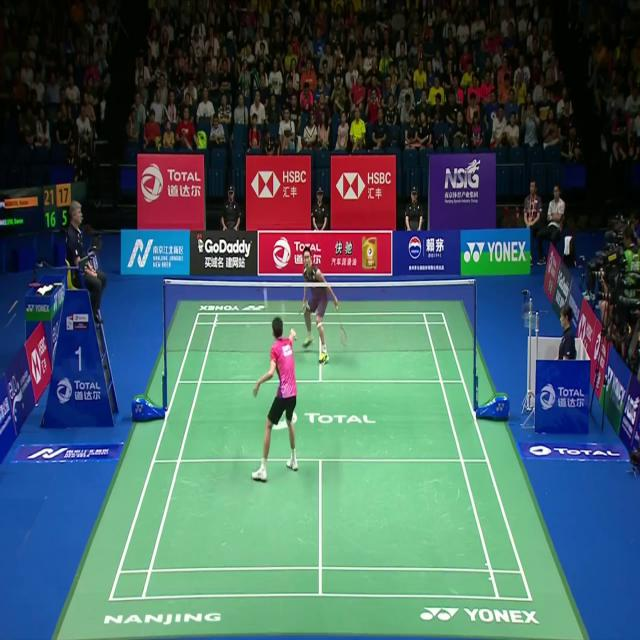Shuttlecock: (263, 288, 269, 300)
